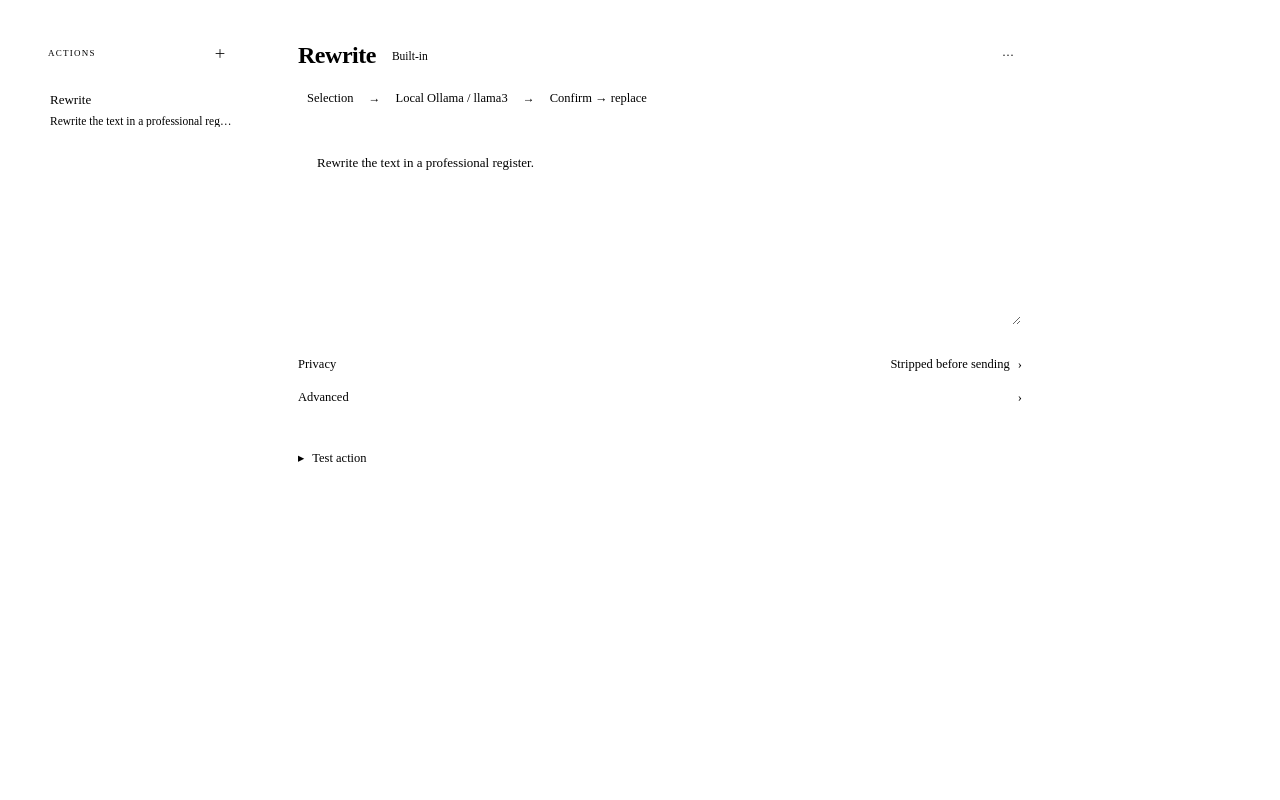
Scenario: ActionsPage — the test bench › names the secret kinds stripped before sending
Click the button "▸ Test action" at (332, 458), box [298, 444, 367, 472]
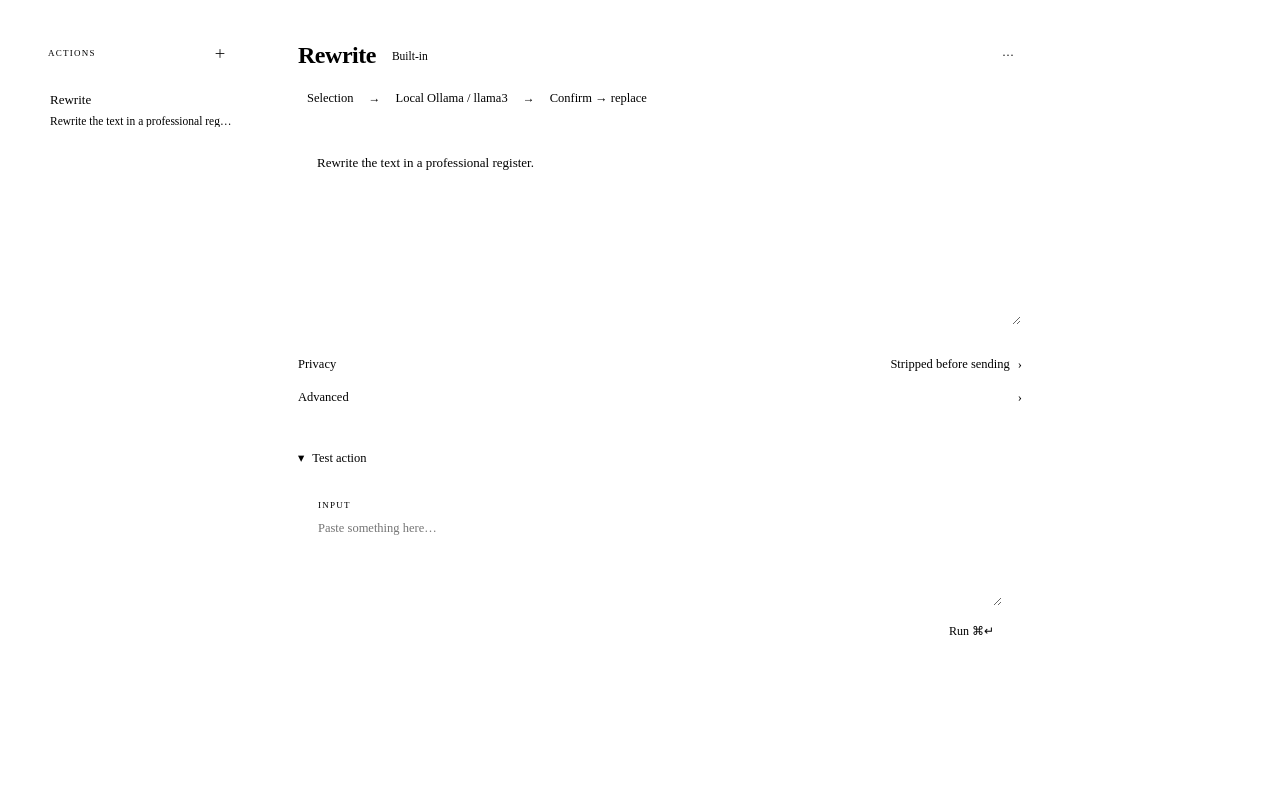
Type "the key is …" into the text box named "Test input" at (660, 558), box [318, 510, 1002, 606]
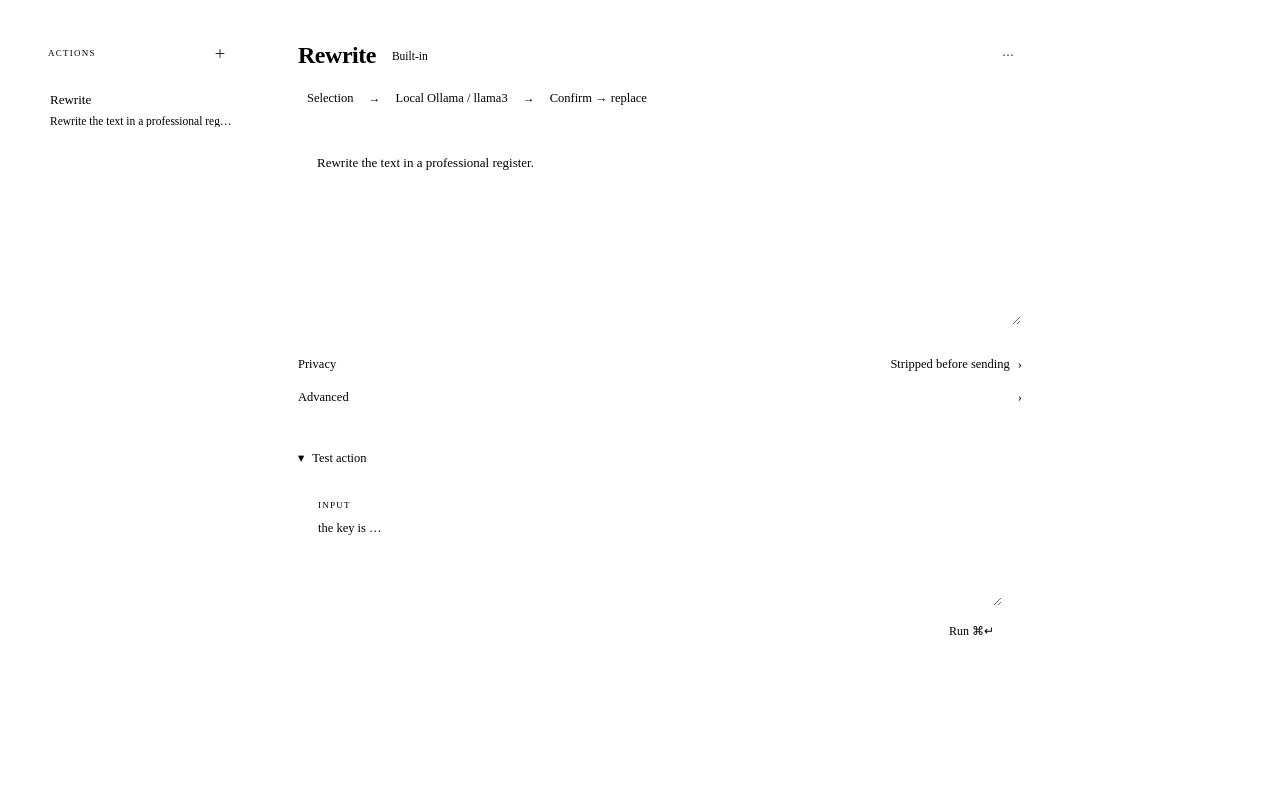
Click the button "Run ⌘↵" at (971, 631), box [941, 618, 1002, 644]
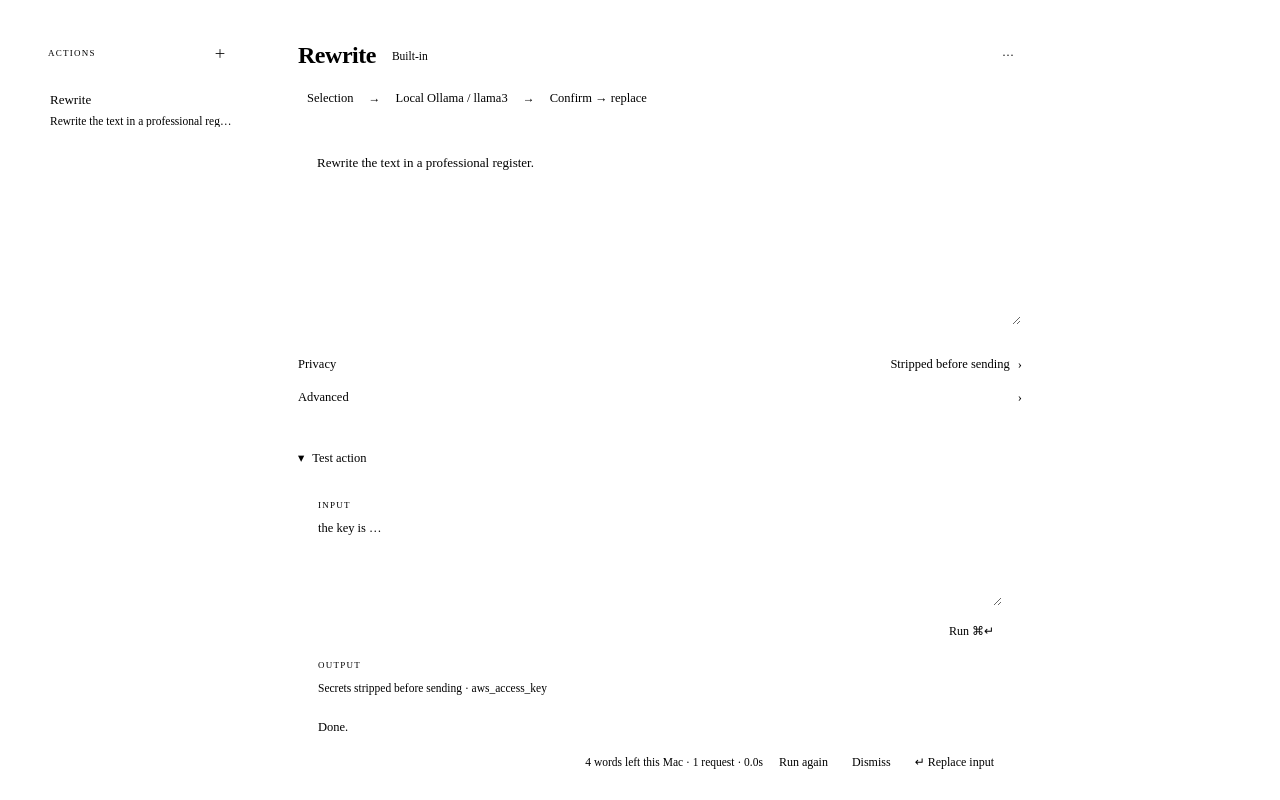
Now the text "Secrets stripped before sending · aws_access_key" is shown, box [318, 682, 547, 694]
